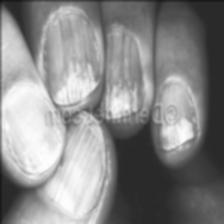Toxin: (38, 41, 136, 108), (17, 125, 107, 177), (158, 123, 190, 151)
